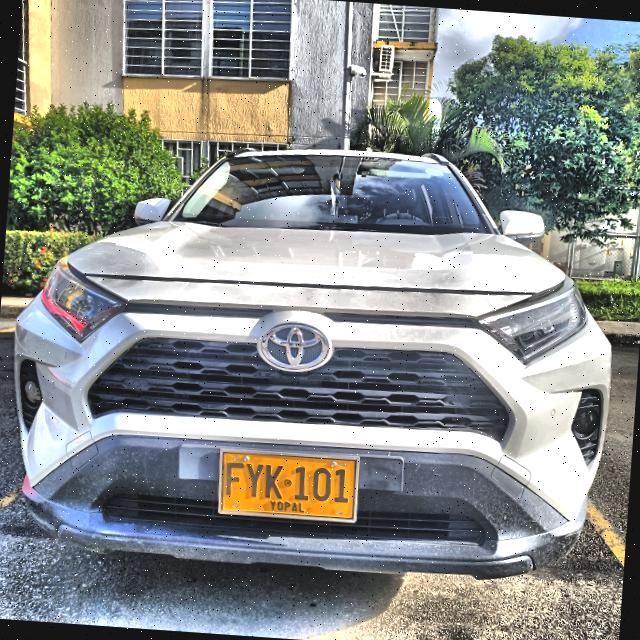0: (311, 466, 332, 503)
1: (292, 464, 311, 502), (332, 467, 350, 507)
F: (224, 460, 245, 499)
K: (261, 463, 285, 500)
Y: (242, 461, 264, 502)
